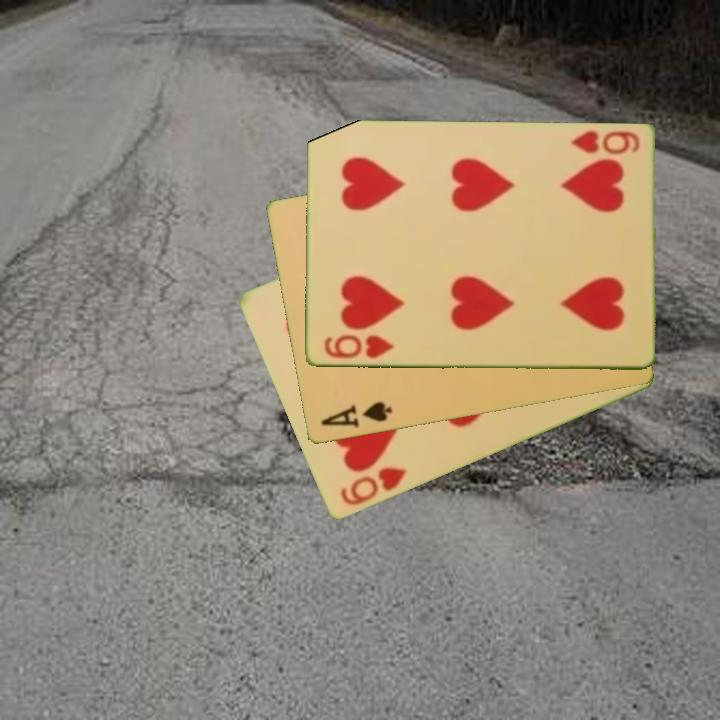6h: (336, 464, 409, 510), (567, 127, 642, 158), (320, 332, 396, 362)
As: (317, 398, 395, 432)
